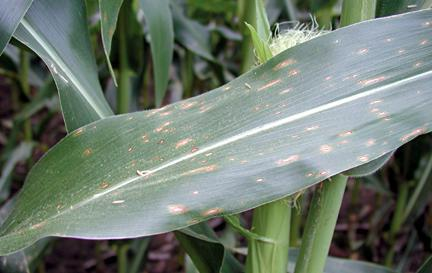Gray_Leaf_Spot: (143, 89, 214, 121), (253, 52, 301, 95), (166, 197, 224, 228), (360, 68, 387, 122), (410, 12, 432, 71), (139, 122, 174, 146), (322, 127, 355, 152), (10, 213, 44, 237), (401, 123, 428, 150), (356, 137, 380, 167), (187, 157, 222, 176), (174, 132, 201, 156), (304, 166, 335, 183), (322, 70, 357, 85), (271, 150, 298, 167), (95, 177, 113, 195), (300, 122, 322, 135), (226, 155, 250, 165), (80, 147, 100, 158), (118, 143, 132, 158), (355, 44, 371, 57), (396, 40, 406, 60), (74, 124, 87, 139), (381, 33, 393, 48), (254, 176, 267, 184)
